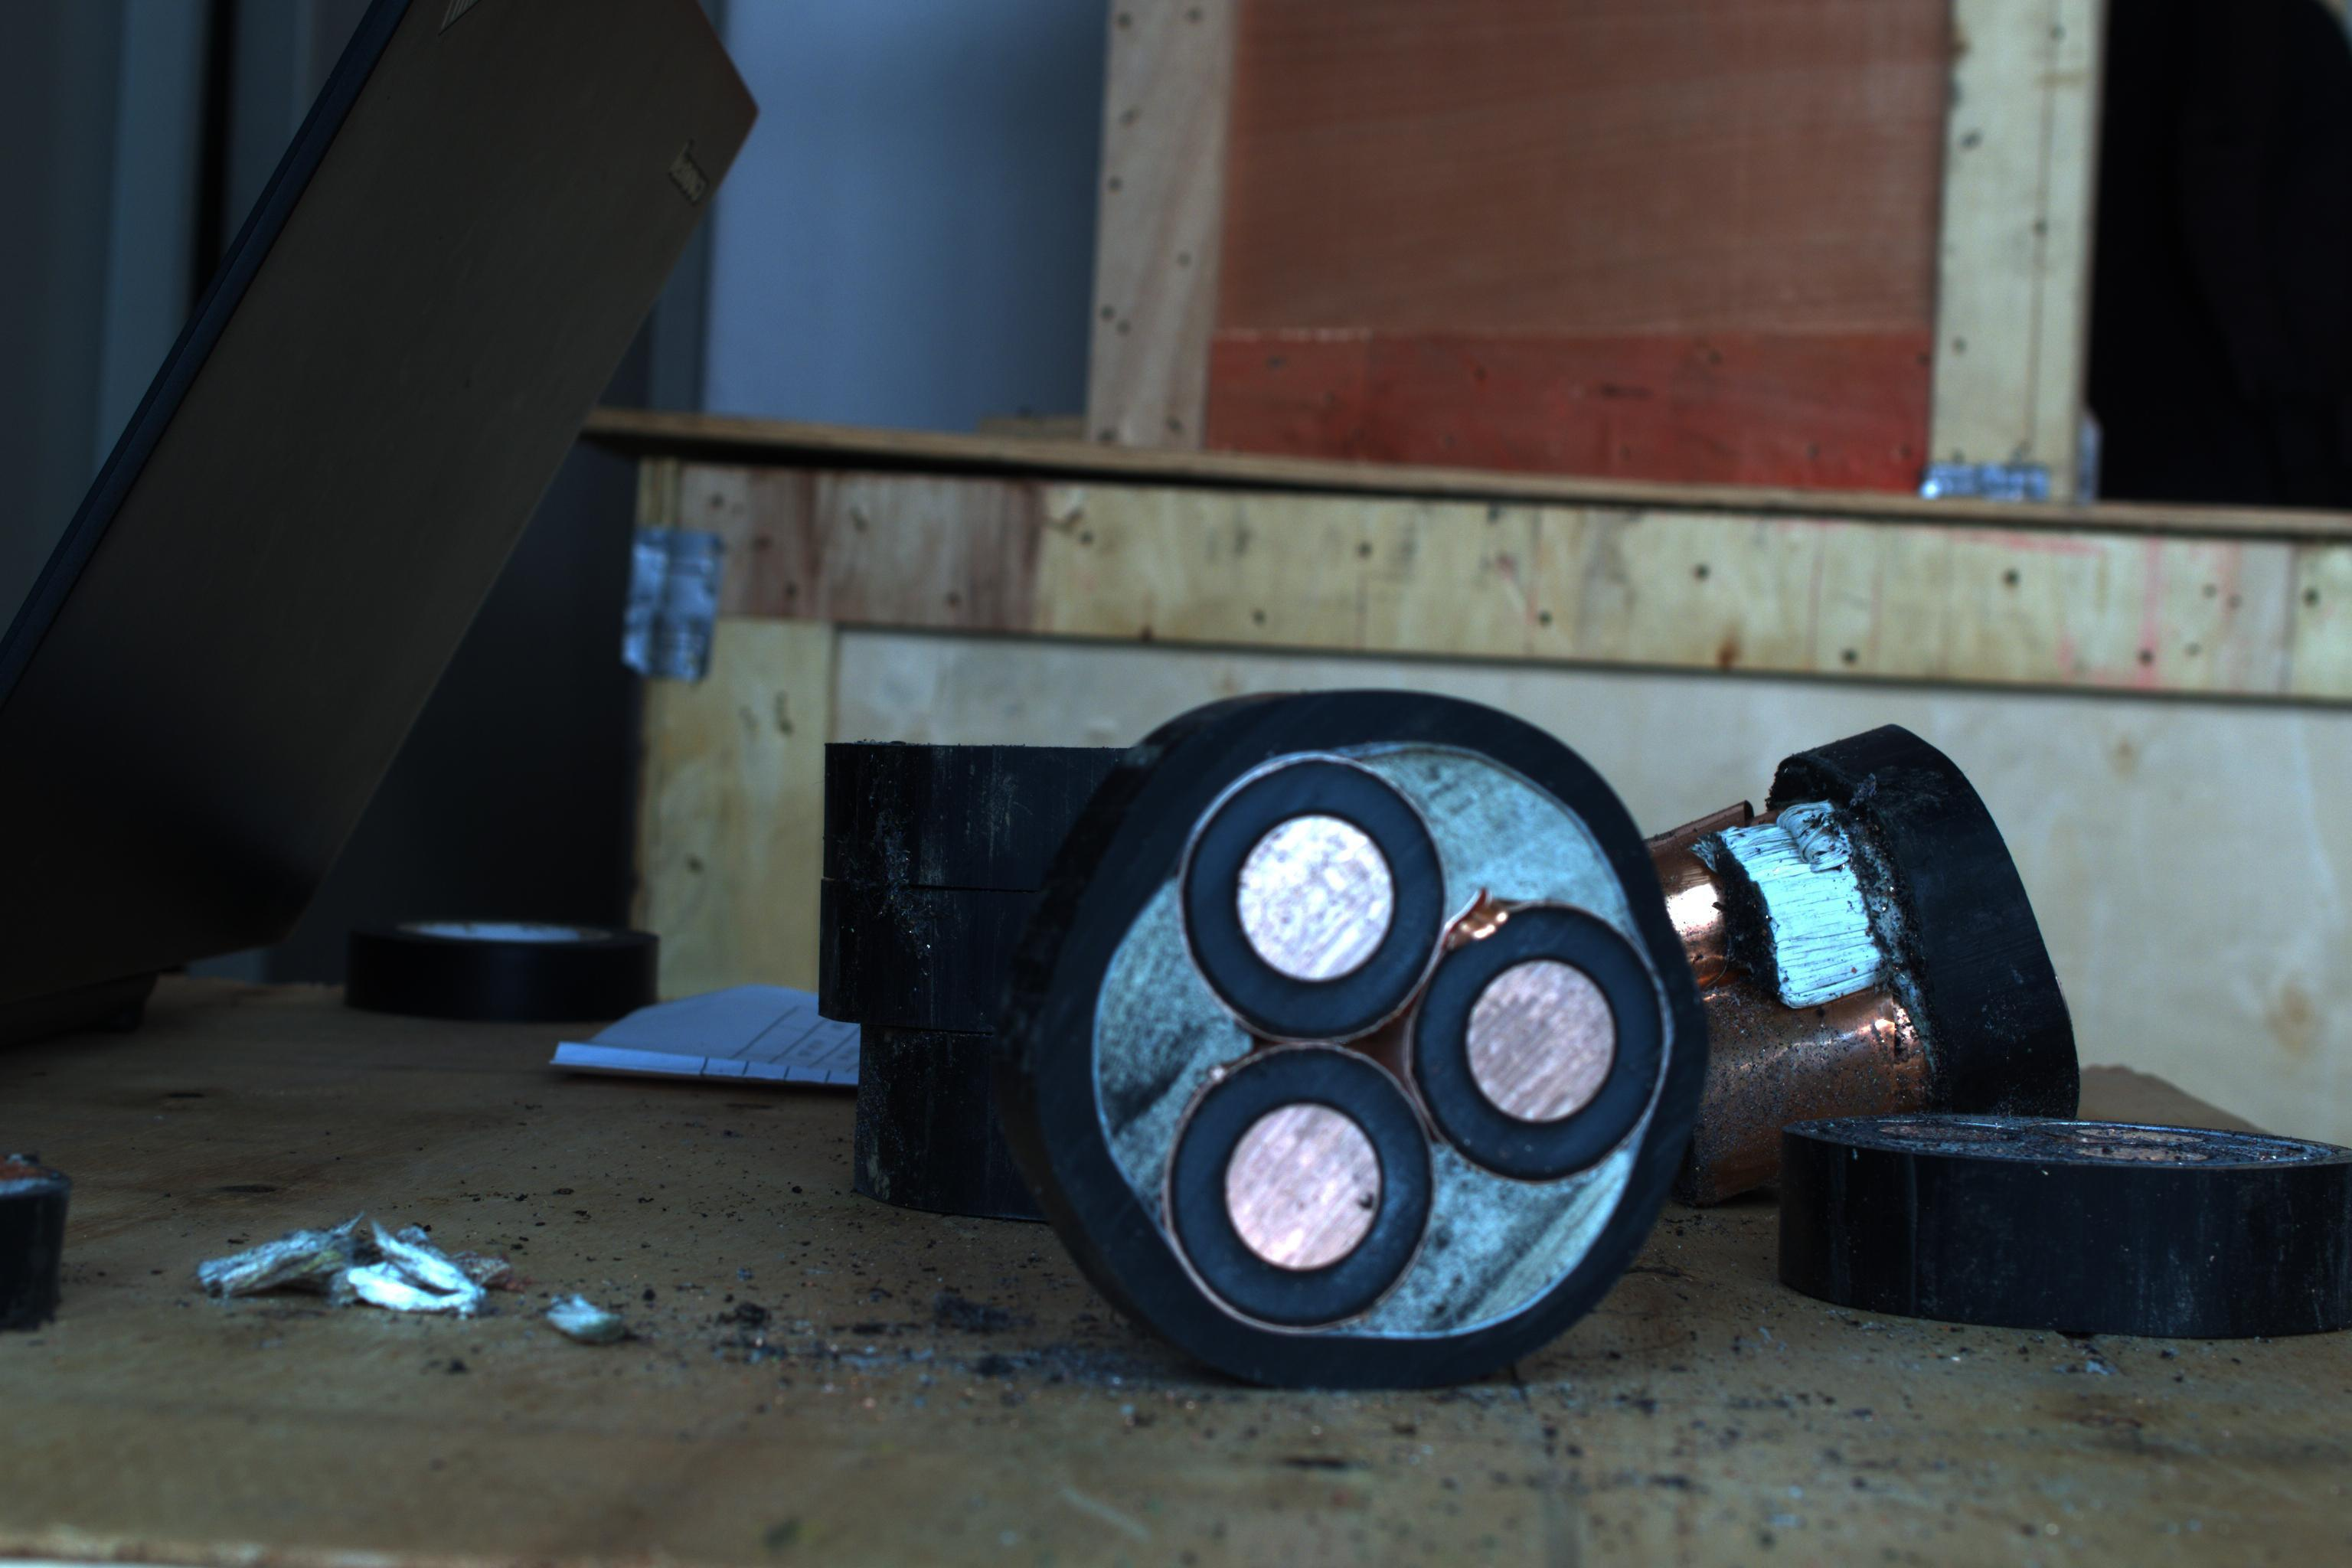ZA_YJV_8.7_10kV_3x240: (1080, 686, 1694, 1370)
